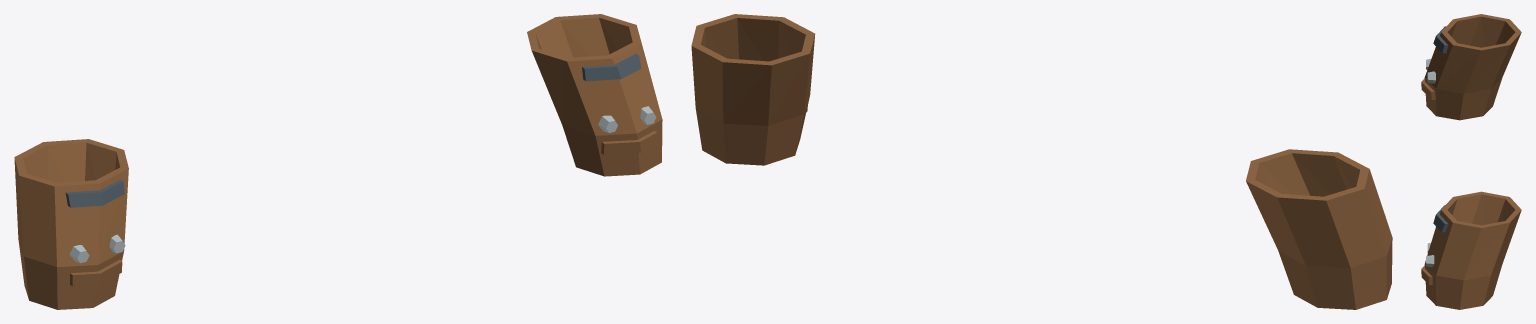
Rendered from studded_wrists-male.glb.
3 renders of one model, left to right at view 1: azimuth 30°, elevation 25°; view 2: azimuth 150°, elevation 25°; view 3: azimuth 270°, elevation 25°, orthographic. The views are drawn at different scales.
Visible parts, largest first — view 1: studded wrist guard -1, studded wrist guard 1, Bracer rolled upper lip 1, Bracer rolled upper lip -1, Bracer lower fastening strap 1, Bracer lower fastening strap -1; view 2: studded wrist guard -1, studded wrist guard 1; view 3: studded wrist guard 1, studded wrist guard -1, Bracer rolled upper lip 1, Bracer rolled upper lip -1, Bracer lower fastening strap -1, Bracer lower fastening strap 1, Set rivet studded wrist guard -1 1, Set rivet studded wrist guard 1 1.
Part boxes in pixels (x1,y1,x2,y2): studded wrist guard -1: [14, 139, 128, 309]; studded wrist guard 1: [527, 14, 662, 176]; Bracer rolled upper lip 1: [582, 53, 641, 81]; Bracer rolled upper lip -1: [65, 179, 124, 207]; Bracer lower fastening strap 1: [601, 130, 657, 154]; Bracer lower fastening strap -1: [70, 259, 122, 286]; studded wrist guard -1: [1246, 149, 1392, 309]; studded wrist guard 1: [691, 14, 815, 165]; studded wrist guard 1: [1424, 191, 1521, 309]; studded wrist guard -1: [1424, 14, 1521, 120]; Bracer rolled upper lip 1: [1433, 205, 1448, 232]; Bracer rolled upper lip -1: [1433, 26, 1448, 53]; Bracer lower fastening strap -1: [1421, 78, 1435, 99]; Bracer lower fastening strap 1: [1421, 265, 1432, 284]; Set rivet studded wrist guard -1 1: [1427, 71, 1435, 83]; Set rivet studded wrist guard 1 1: [1426, 255, 1434, 267].
Size of the model in its own units: 3.7 by 0.63 by 0.7171.
